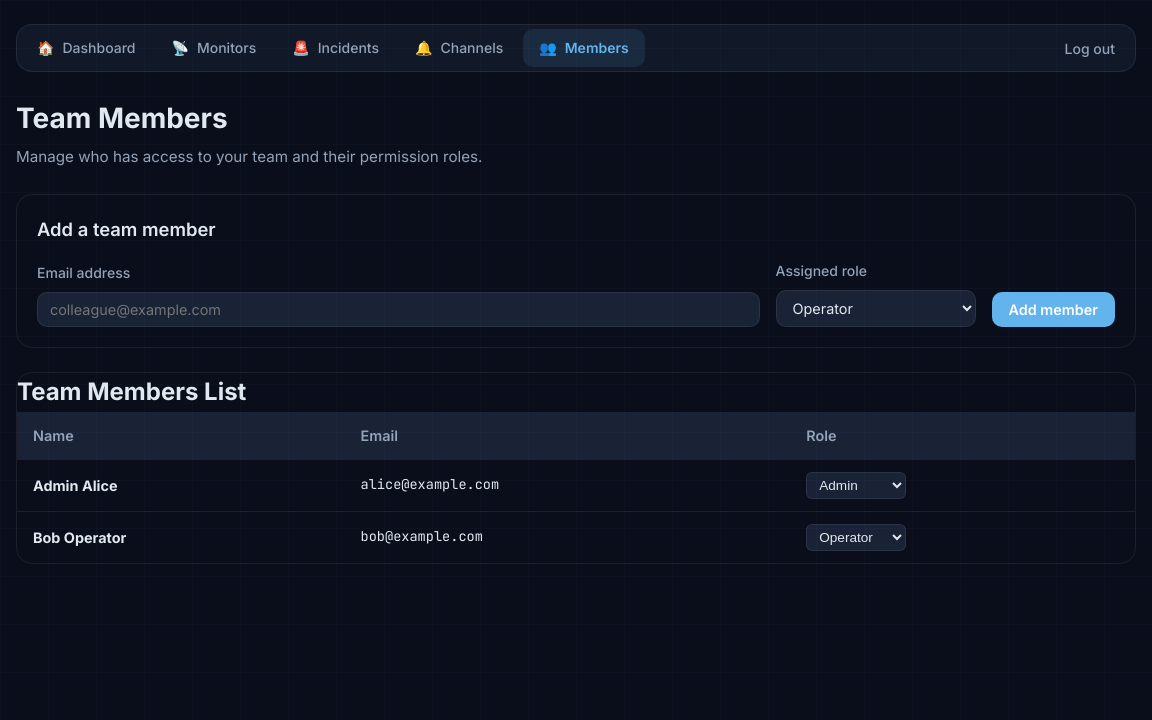
Test: MembersPage (US-19) › admin adds member: submits payload and updates UI
expect the text "Admin Alice" is shown: met, box [33,477,118,494]
In the field labelled "Email address": [398, 310] box [37,292,760,327], type "charlie@example.com"
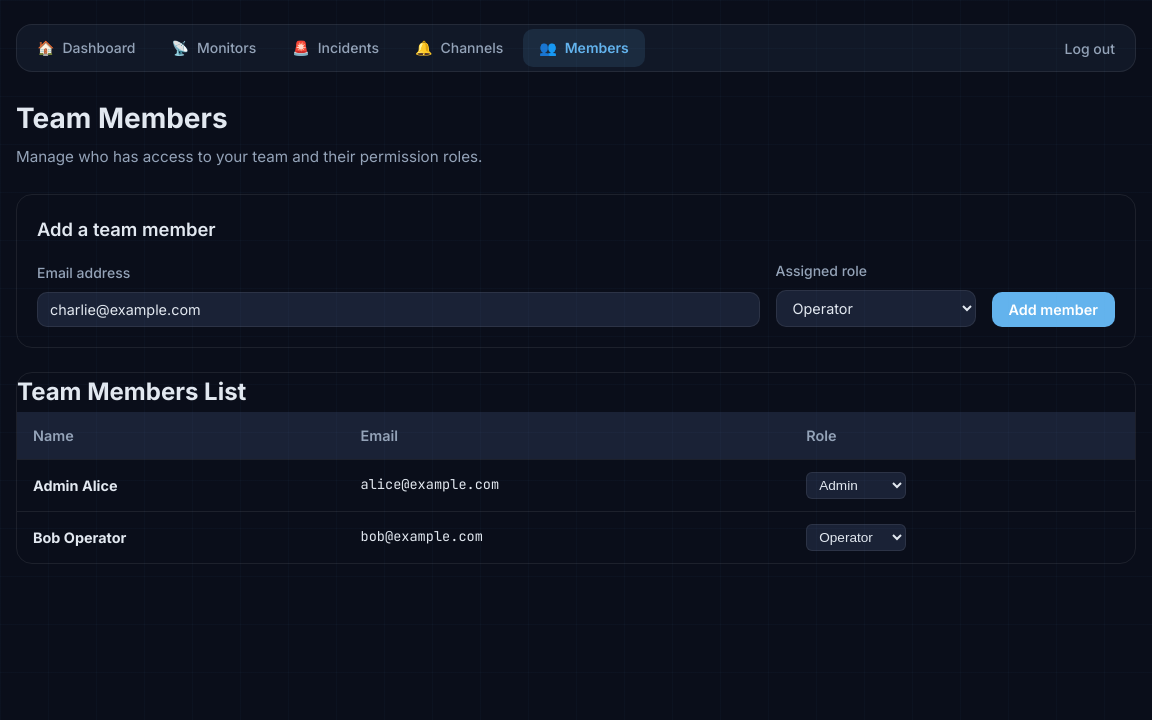
Select "Read-only" in the dropdown labelled "Assigned role": [876, 309] box [776,290,976,327]
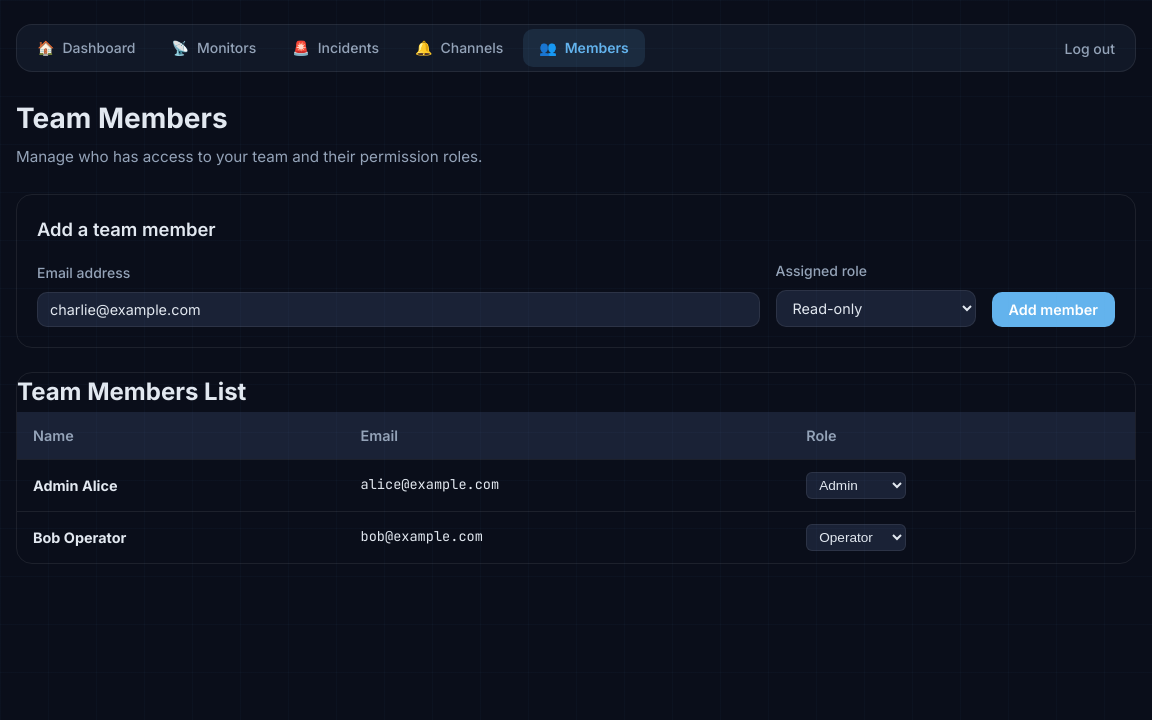
Click the button with test id "add-member-btn": [1053, 310] box [992,292,1115,327]
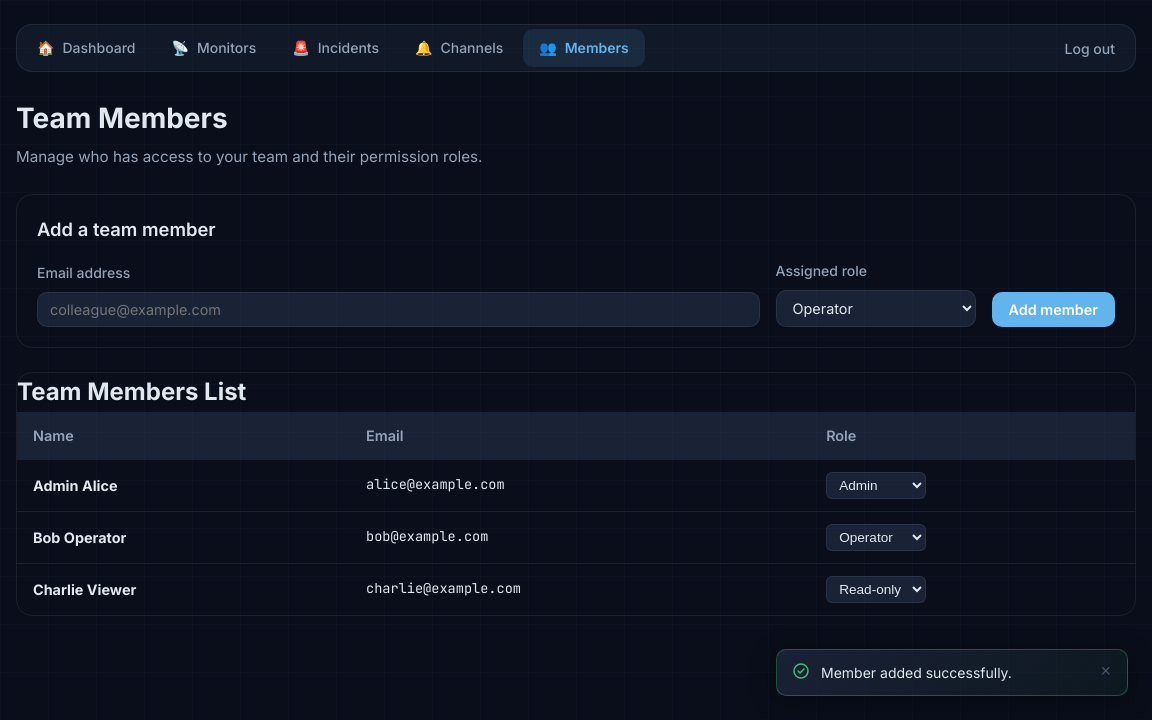
expect the text "charlie@example.com" is shown: met, box [350,563,810,615]
expect the text "Member added successfully." is shown: met, box [821,664,1012,681]
